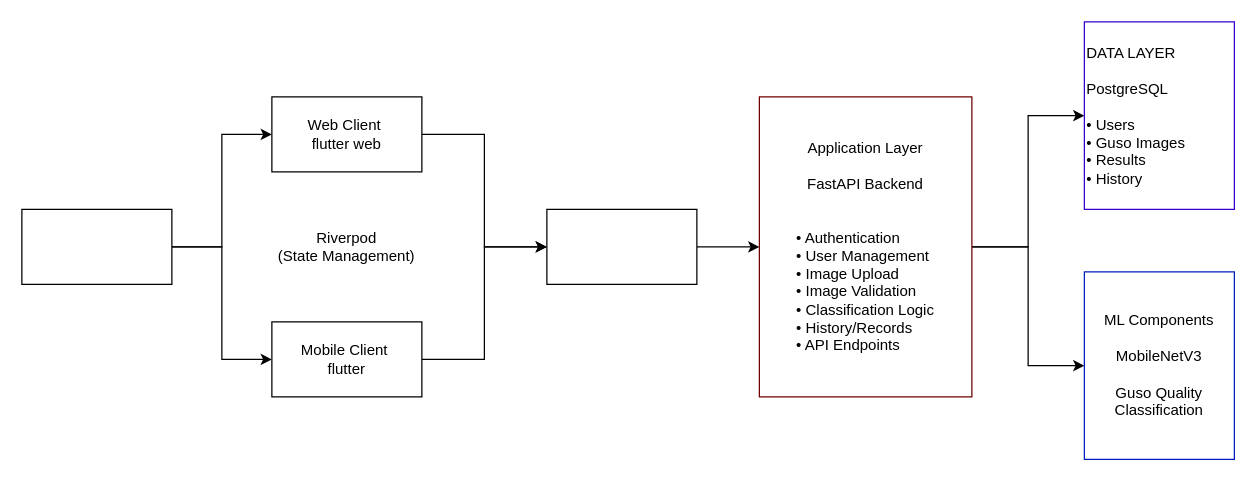
Some shapes in this 1256 by 481 pixel diagram are drawn without their labels. Each missing label, with the centre of its shape:
"GUSO QUALITY CLASSIFICATION SYSTEM" goes at pixel 96 246.
"HTTPS / REST API" goes at pixel 621 246.
